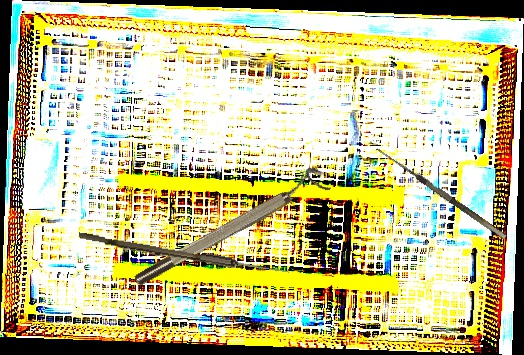Fixation Ring: (126, 162, 333, 291)
Hook Surgical: (371, 145, 507, 247)
Surgical Spoon: (77, 232, 291, 277)
